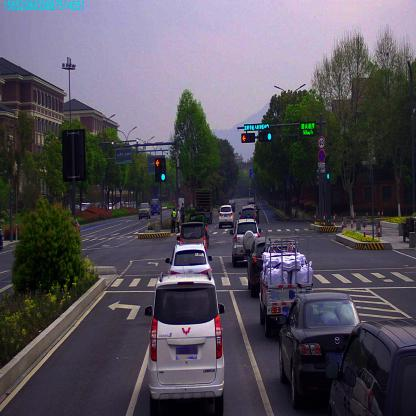traffic-light: (244, 124, 270, 131), (241, 132, 255, 143), (260, 131, 271, 142)
